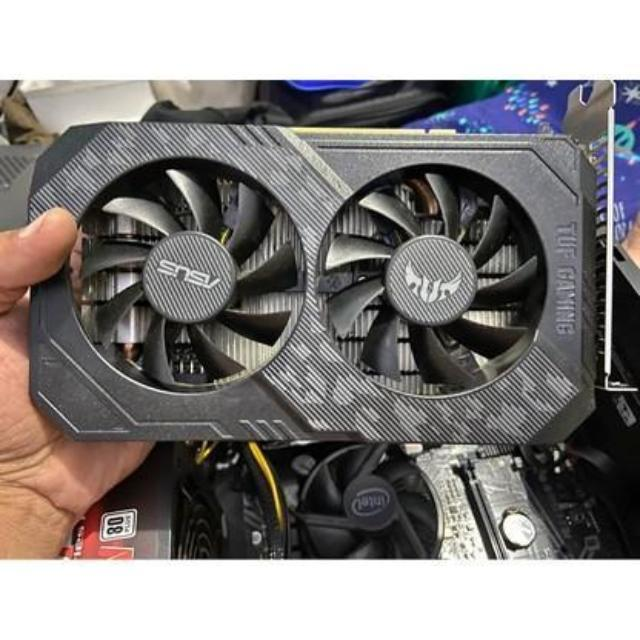GPU: (16, 101, 621, 470)
